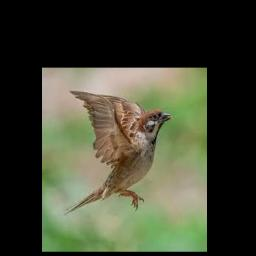Sparrow: (63, 91, 173, 214)
